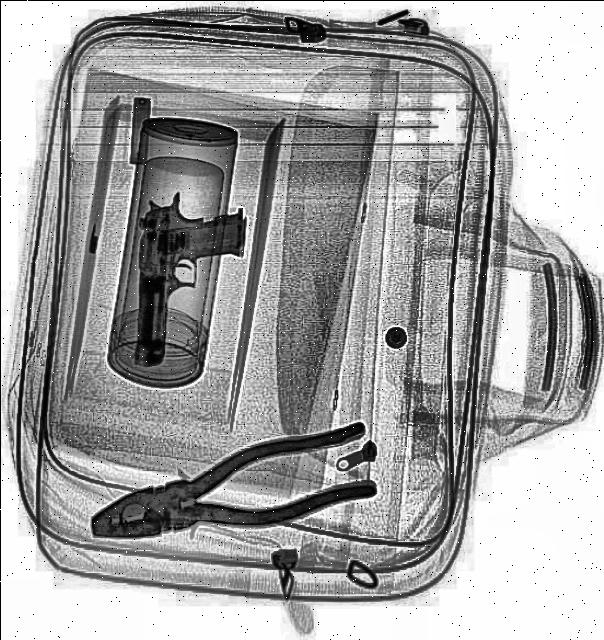Gun: (136, 191, 242, 367)
Pliers: (77, 418, 381, 570)
